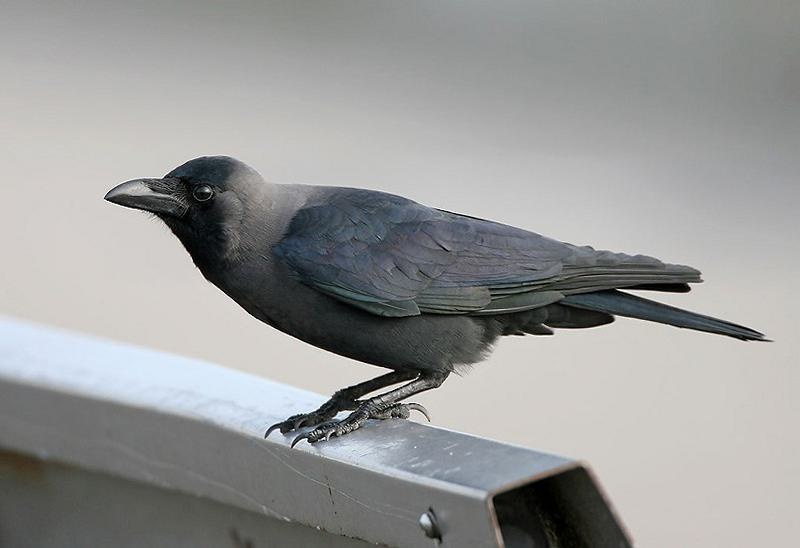crow: (98, 139, 770, 446)
